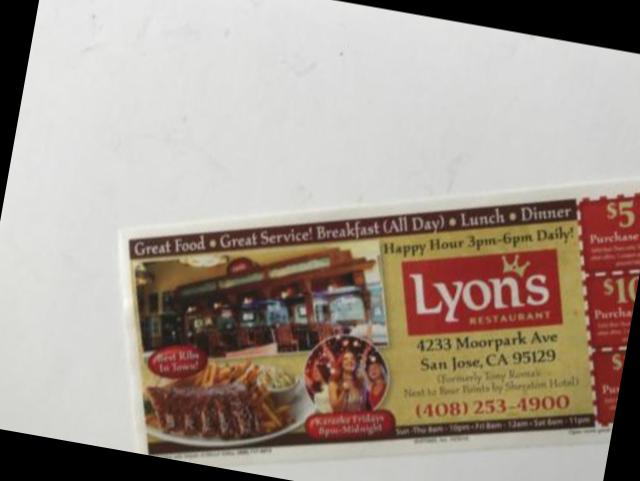cardboard paper: (117, 175, 640, 462)
